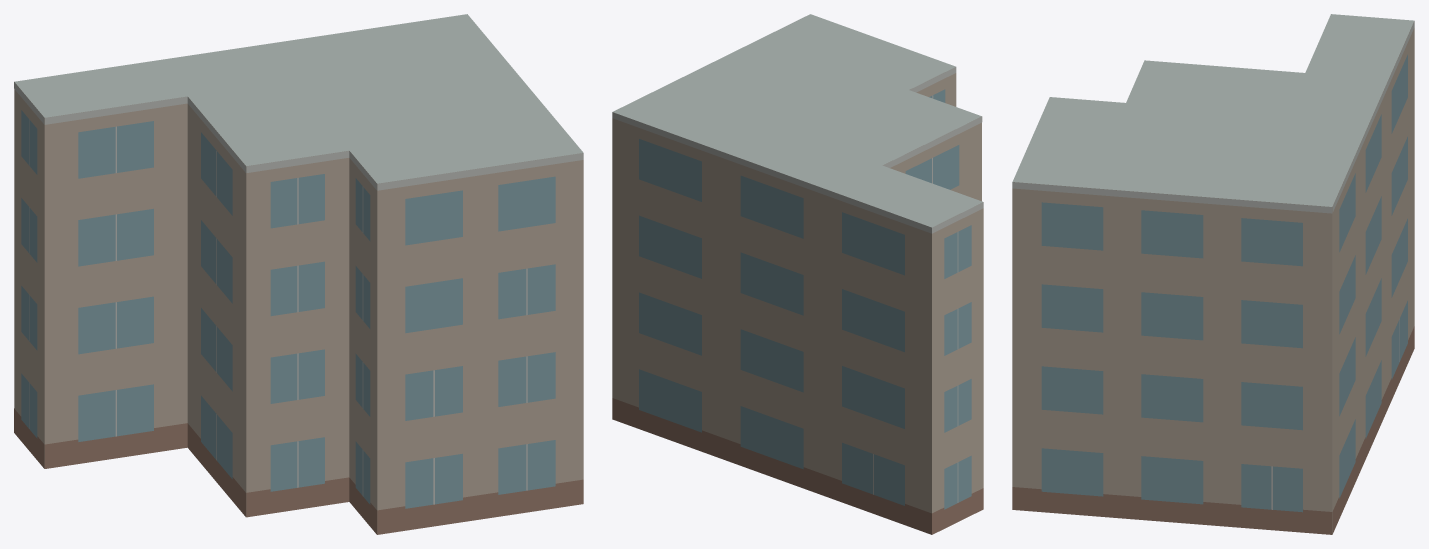
File: residential-3ddcb50a-9553-4af3-a601-39e135a07e1a.glb
3 views of the same model, side by side, from view 1: azimuth 30°, elevation 25°; view 2: azimuth 150°, elevation 25°; view 3: azimuth 270°, elevation 25° (orthographic). The views are drawn at different scales.
Parts seen in each view (by area): view 1: residential-3ddcb50a-9553-4af3-a601-39e135a07e1a.tmp; view 2: residential-3ddcb50a-9553-4af3-a601-39e135a07e1a.tmp; view 3: residential-3ddcb50a-9553-4af3-a601-39e135a07e1a.tmp.
Boxes of the visible parts, x1,y1,x2,y2 form: residential-3ddcb50a-9553-4af3-a601-39e135a07e1a.tmp: (14, 14, 583, 534); residential-3ddcb50a-9553-4af3-a601-39e135a07e1a.tmp: (612, 14, 983, 534); residential-3ddcb50a-9553-4af3-a601-39e135a07e1a.tmp: (1012, 14, 1414, 534).
Bounding box in the file's own units: 15.41 × 12.2 × 13.57.
